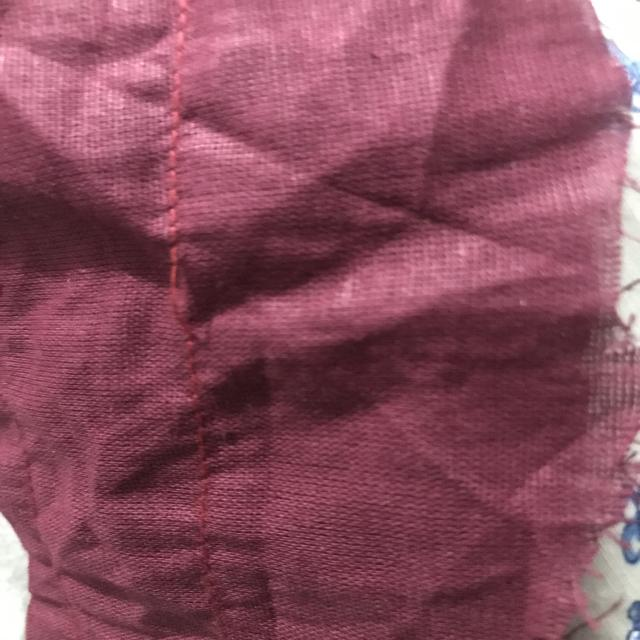skip: (146, 246, 222, 354)
